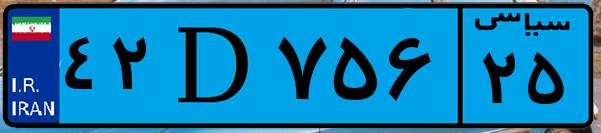2: (475, 38, 525, 113), (110, 28, 158, 98)
4: (57, 26, 110, 100)
5: (330, 28, 385, 110), (525, 38, 570, 115)
6: (385, 28, 445, 110)
7: (270, 28, 330, 110)
D: (158, 12, 270, 120)
